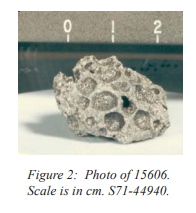Basalt: (45, 48, 171, 143)
